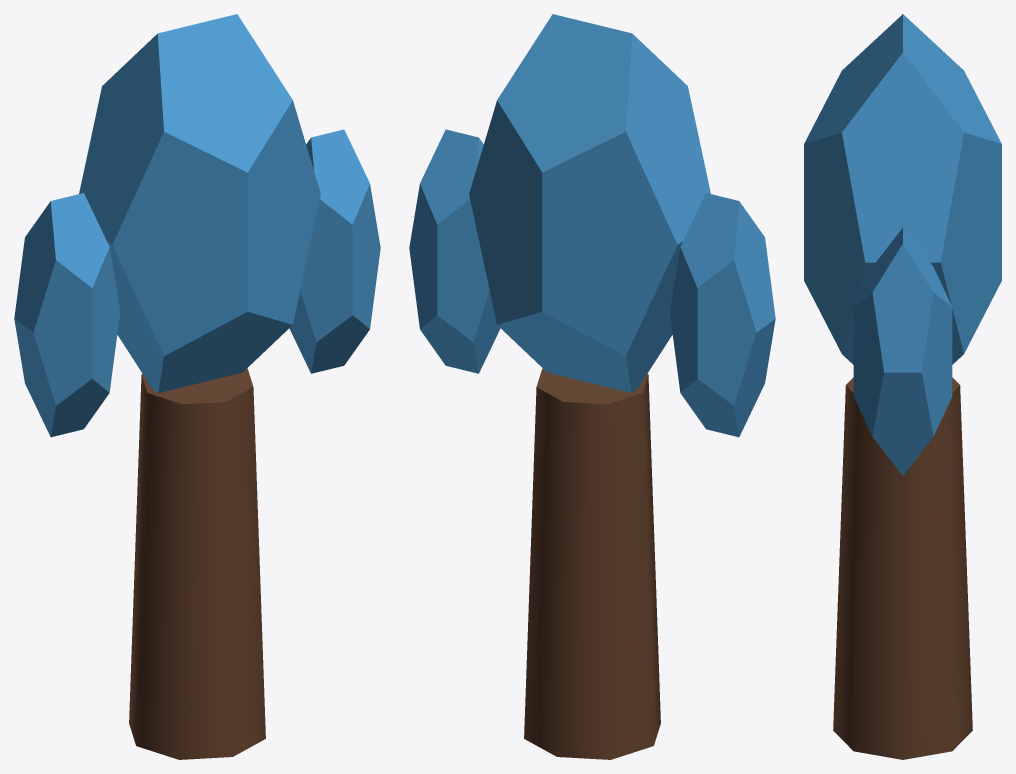
Rendered from arcane-crystal.glb.
3 renders of one model, left to right at view 1: azimuth 30°, elevation 25°; view 2: azimuth 150°, elevation 25°; view 3: azimuth 270°, elevation 25°, orthographic.
Parts seen in each view (by area): view 1: crystal-focus, crystal-handle, crystal-splinter (×2); view 2: crystal-focus, crystal-handle, crystal-splinter (×2); view 3: crystal-focus, crystal-handle, crystal-splinter.
Part boxes in pixels (<box>): crystal-focus: <box>79,14,320,392</box>; crystal-handle: <box>129,368,265,759</box>; crystal-splinter (×2): <box>14,129,380,437</box>; crystal-focus: <box>469,14,710,392</box>; crystal-handle: <box>524,368,660,759</box>; crystal-splinter (×2): <box>409,129,775,437</box>; crystal-focus: <box>804,14,1001,364</box>; crystal-handle: <box>833,377,972,759</box>; crystal-splinter: <box>853,228,952,475</box>.
Bounding box in the file's own units: 0.1867 × 0.3634 × 0.0934.
